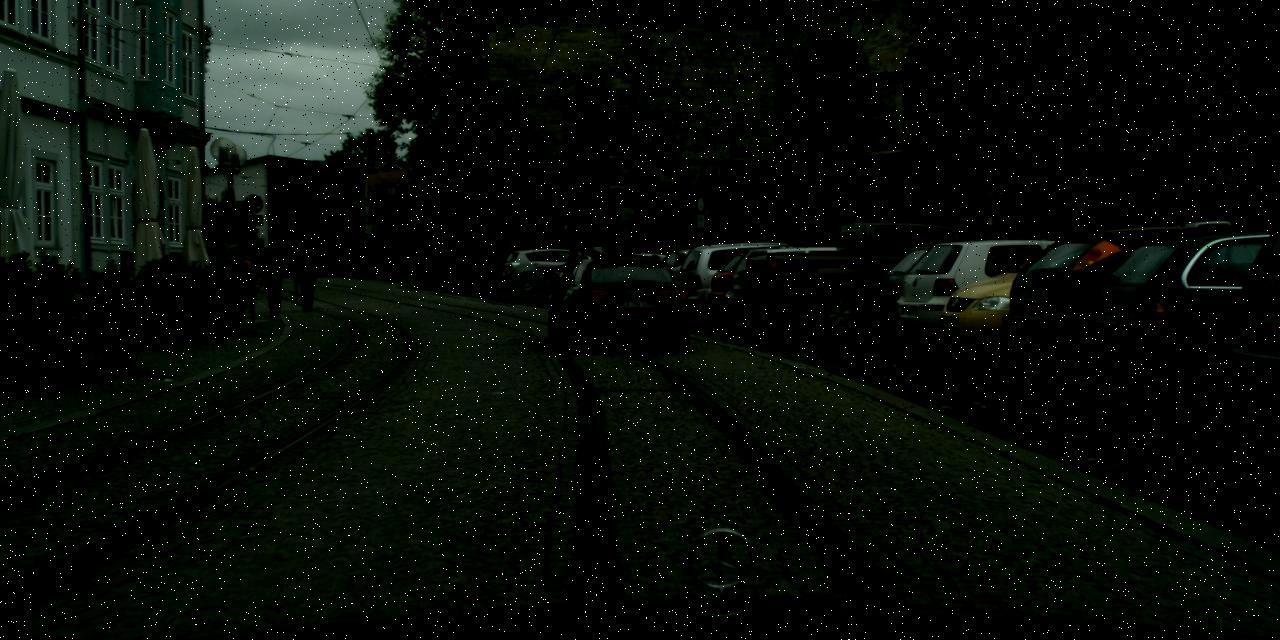ped: (260, 252, 286, 314), (294, 248, 318, 310), (232, 252, 255, 310), (564, 246, 587, 303), (597, 249, 618, 302), (813, 238, 833, 289), (200, 248, 218, 294), (332, 251, 341, 276), (342, 253, 351, 276)
